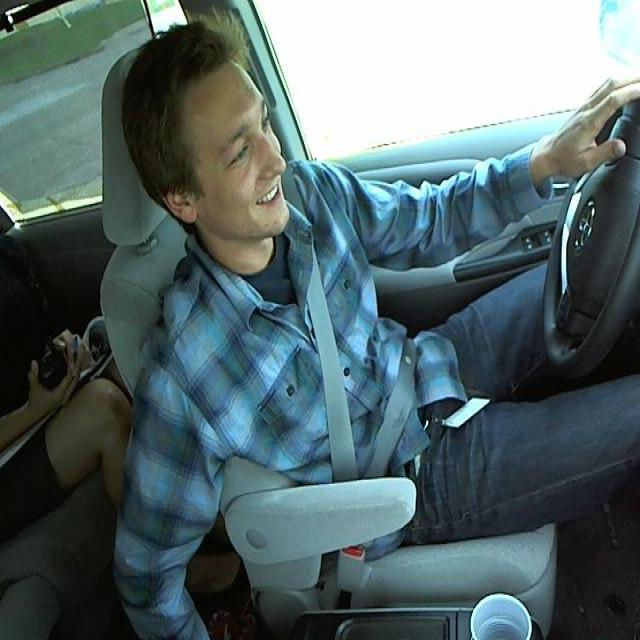seatbelt: (283, 231, 419, 521)
